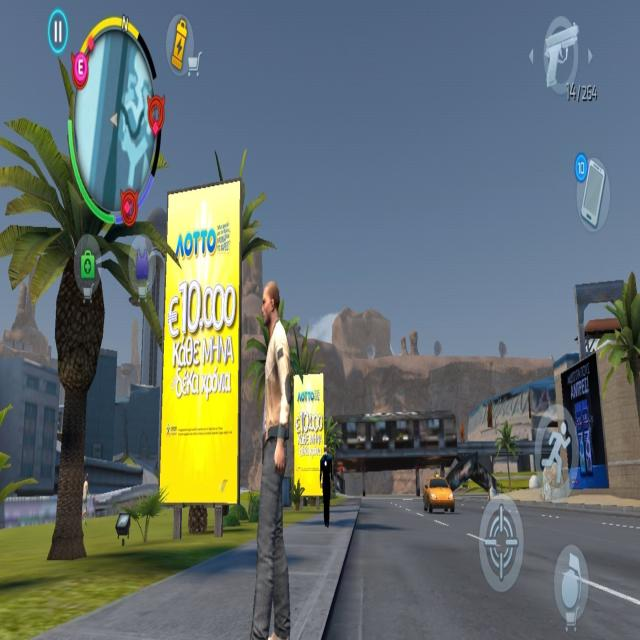billboard: (159, 177, 242, 508), (557, 351, 610, 495), (292, 372, 326, 503)
